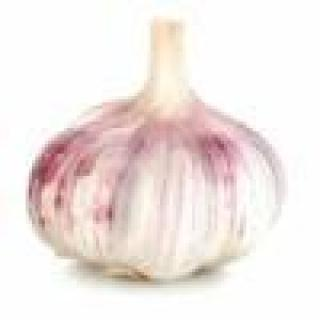Bawang Putih: (20, 20, 289, 292)
